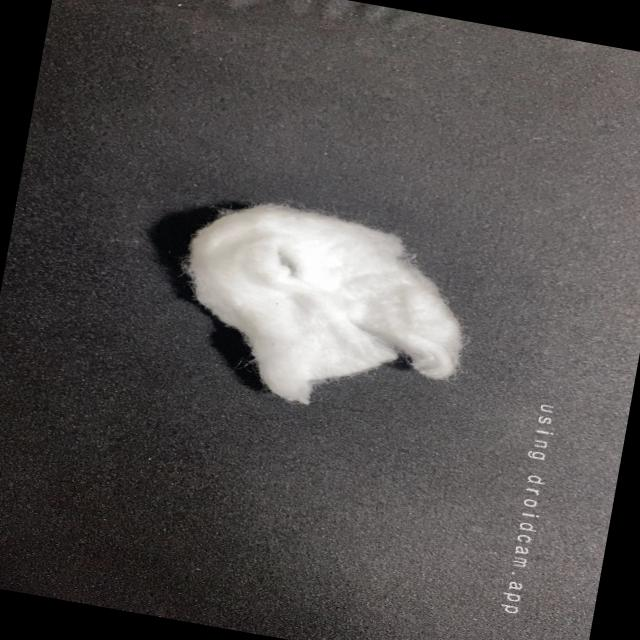cotton: (148, 172, 499, 438)
